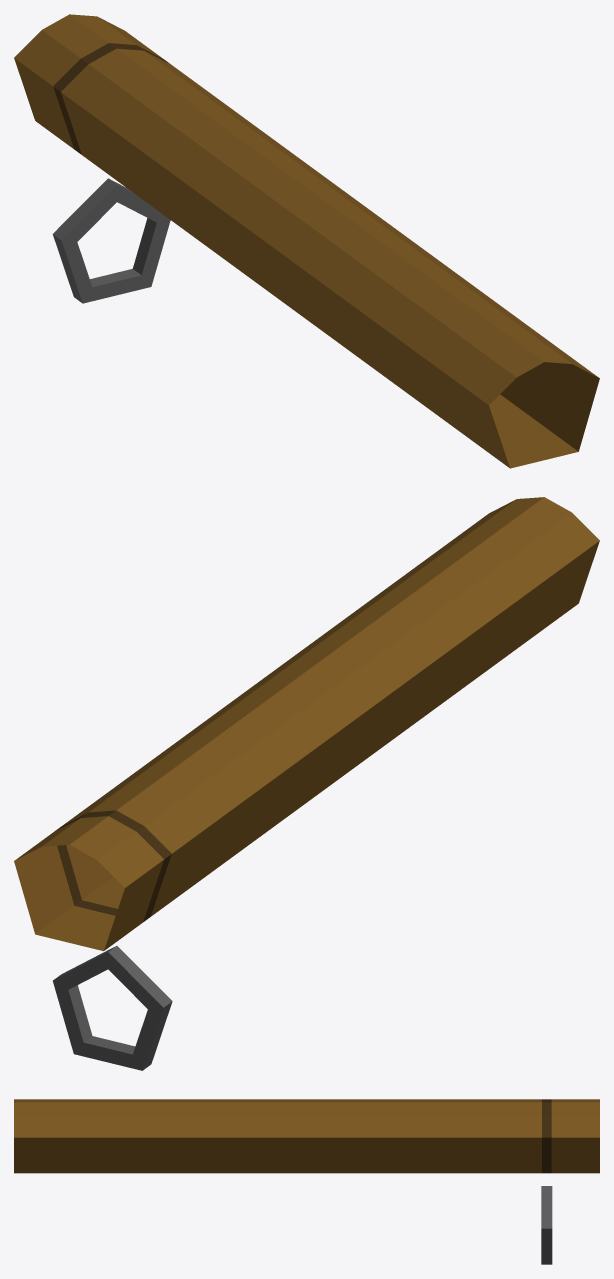
Rendered from Rodpart_01.fbx.
3 renders of one model, top to bottom at view 1: azimuth 30°, elevation 25°; view 2: azimuth 150°, elevation 25°; view 3: azimuth 270°, elevation 25°, orthographic. The views are drawn at different scales.
Visible parts, largest first — view 1: Rodpart_01; view 2: Rodpart_01; view 3: Rodpart_01.
Part boxes in pixels (bbox=[...]): Rodpart_01: bbox=[14, 14, 599, 468]; Rodpart_01: bbox=[14, 497, 599, 1070]; Rodpart_01: bbox=[14, 1099, 599, 1264].
Size of the model in its own units: 2.77 by 5.86 by 20.51.
